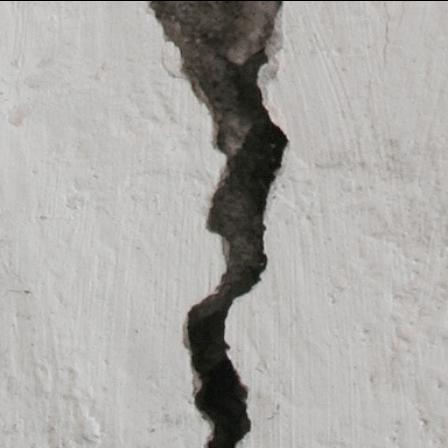crack: (145, 0, 306, 448)
